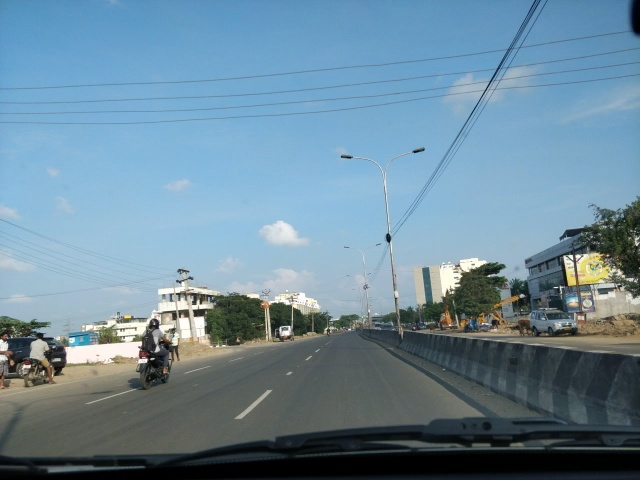animal: (518, 319, 534, 338), (427, 322, 439, 332)
car: (13, 329, 74, 379), (532, 305, 579, 341), (276, 320, 297, 345)
motorbike: (139, 317, 173, 392), (24, 333, 58, 388), (410, 321, 419, 334), (324, 324, 332, 337)
person: (192, 372, 211, 418), (2, 320, 9, 392), (167, 327, 177, 366)
truck: (354, 323, 364, 335)
